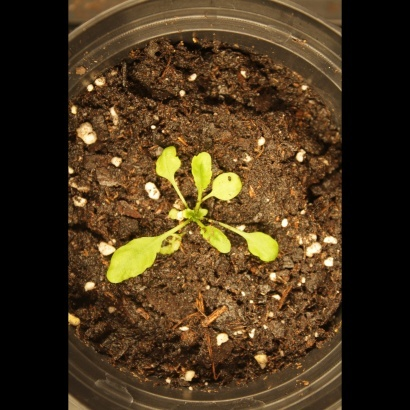leaf: (101, 231, 174, 290), (143, 141, 189, 189), (237, 229, 287, 266), (197, 216, 235, 262), (186, 151, 220, 200), (208, 169, 253, 205)
